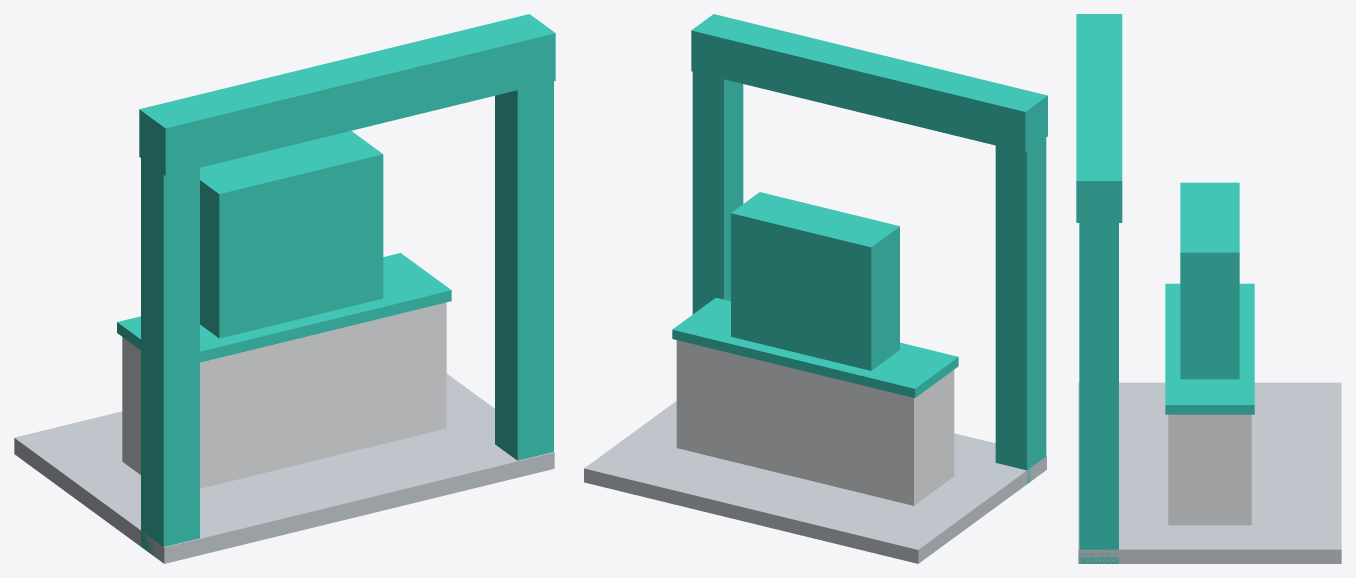
The picture shows the model from 3 angles, left to right: view 1: azimuth 30°, elevation 25°; view 2: azimuth 150°, elevation 25°; view 3: azimuth 270°, elevation 25°; orthographic projection. The views are drawn at different scales.
Visible parts, largest first — view 1: Exhibition Booth Concept; view 2: Exhibition Booth Concept; view 3: Exhibition Booth Concept.
Boxes of the visible parts, box(x1,y1,x2,y2) form: Exhibition Booth Concept: box(14, 14, 555, 563); Exhibition Booth Concept: box(584, 14, 1047, 563); Exhibition Booth Concept: box(1076, 14, 1341, 563).
Bounding box in the file's own units: 3 × 3.2 × 2.01.
